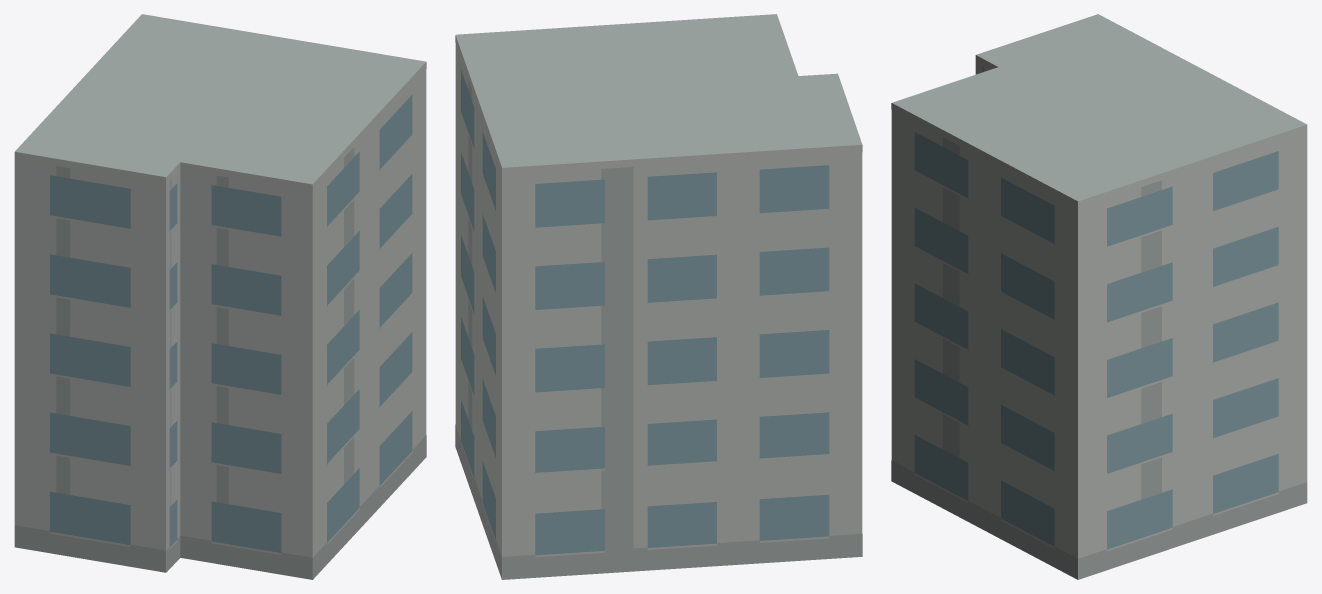
File: survey-upis-32804459.glb
The picture shows the model from 3 angles, left to right: view 1: azimuth 30°, elevation 25°; view 2: azimuth 150°, elevation 25°; view 3: azimuth 270°, elevation 25°; orthographic projection. The views are drawn at different scales.
Visible parts, largest first — view 1: survey-upis-32804459.tmp; view 2: survey-upis-32804459.tmp; view 3: survey-upis-32804459.tmp.
Part boxes in pixels (bbox=[...]): survey-upis-32804459.tmp: bbox=[14, 14, 426, 579]; survey-upis-32804459.tmp: bbox=[455, 14, 862, 579]; survey-upis-32804459.tmp: bbox=[891, 14, 1307, 579].
Size of the model in its own units: 14.16 by 13.33 by 13.28.
